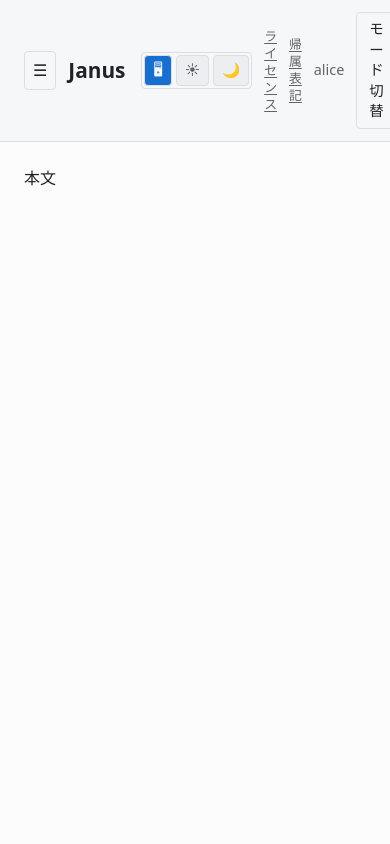
Test case: AppLayout（狭幅オーバーレイの a11y・design.md §4.3/§10） › (d) ナビ項目選択で閉じて遷移し、閉後の aria-expanded は false
The image size is (390, 844).
Click the button named "ナビゲーションを開く" at point(40, 70), box top-left (24, 51), bottom-right (56, 90)
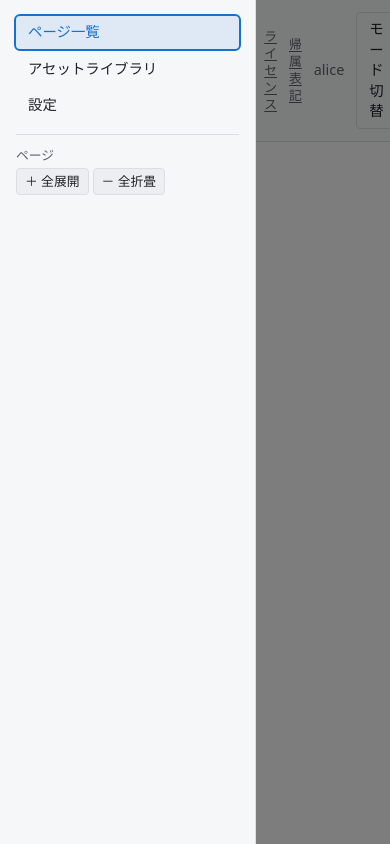
ナビ項目選択で閉じ、同時に /assets へ遷移する（AppLayout は遷移後も常設されるため再マウントされる）。
Click the link "アセットライブラリ" at point(93, 68), box top-left (28, 59), bottom-right (157, 78)
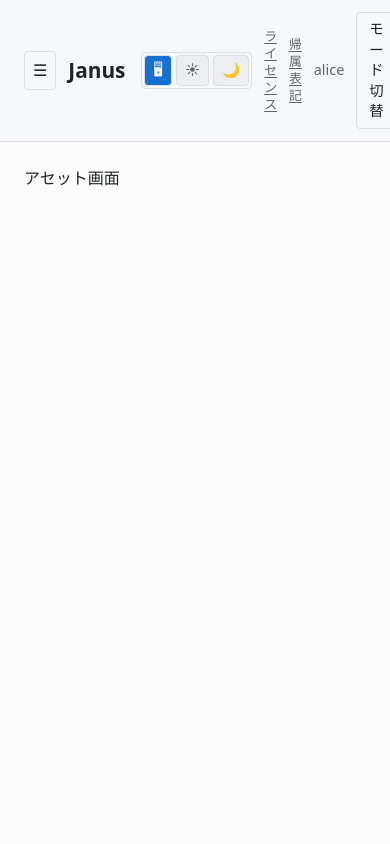
Expected: the text "アセット画面" is shown, top-left (24, 167), bottom-right (120, 189)
Expected: the dialog "グローバルナビゲーション" is gone
Expected: the button named "ナビゲーションを開く" is collapsed, top-left (24, 51), bottom-right (56, 90)
